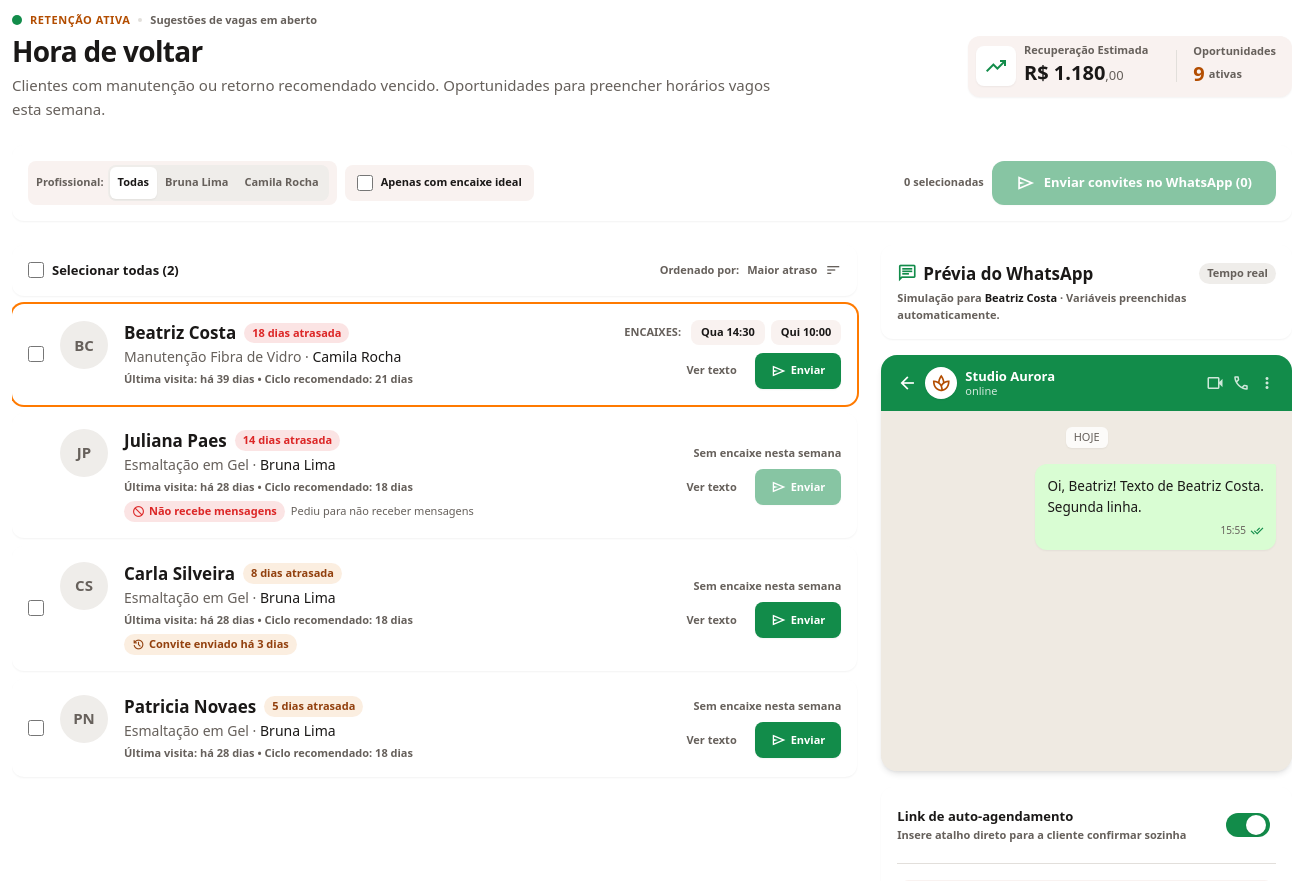
Test: HoraDeVoltar › a dica da recuperação muda quando o valor é das selecionadas
Check: the text "18 dias atrasada" is shown, box left=244, top=323, right=350, bottom=343
Click the checkbox named "Selecionar Beatriz Costa" at (36, 354), box left=28, top=346, right=44, bottom=362
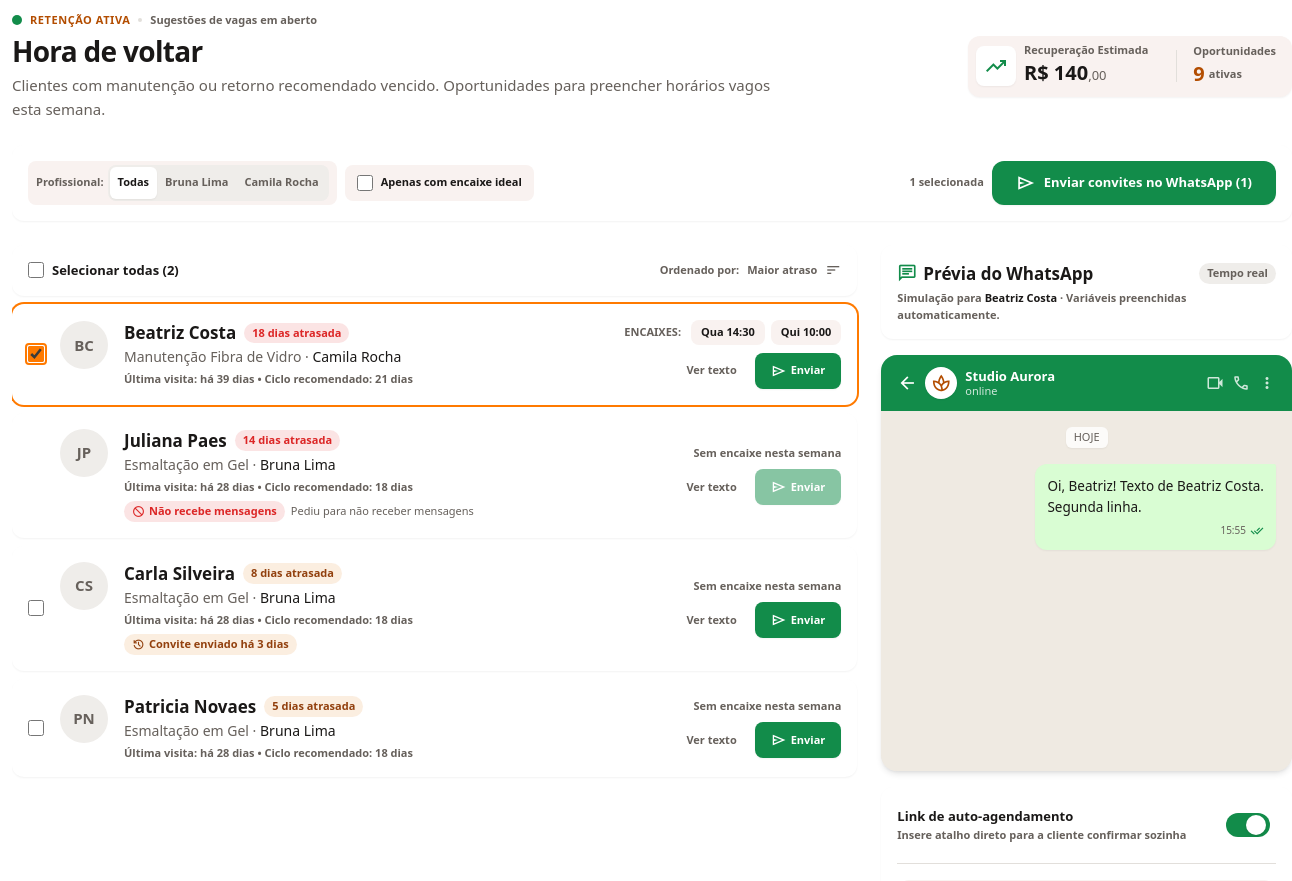
Check: the element with test id "recuperacao" reads "R$ 140,00", box left=1024, top=59, right=1106, bottom=86
